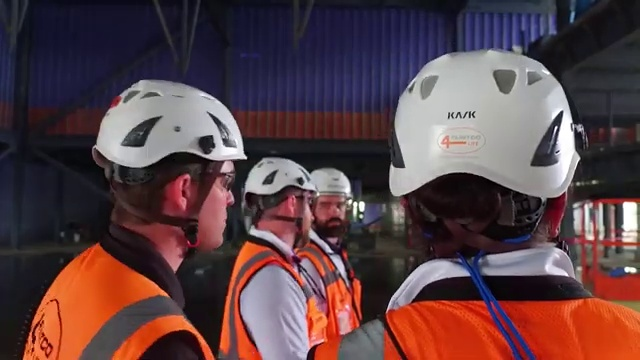helmet: (375, 48, 588, 192), (85, 72, 248, 171), (239, 154, 320, 198), (307, 163, 359, 200)
jacket: (15, 244, 217, 360), (376, 298, 640, 360), (225, 238, 314, 360), (311, 246, 366, 342)
